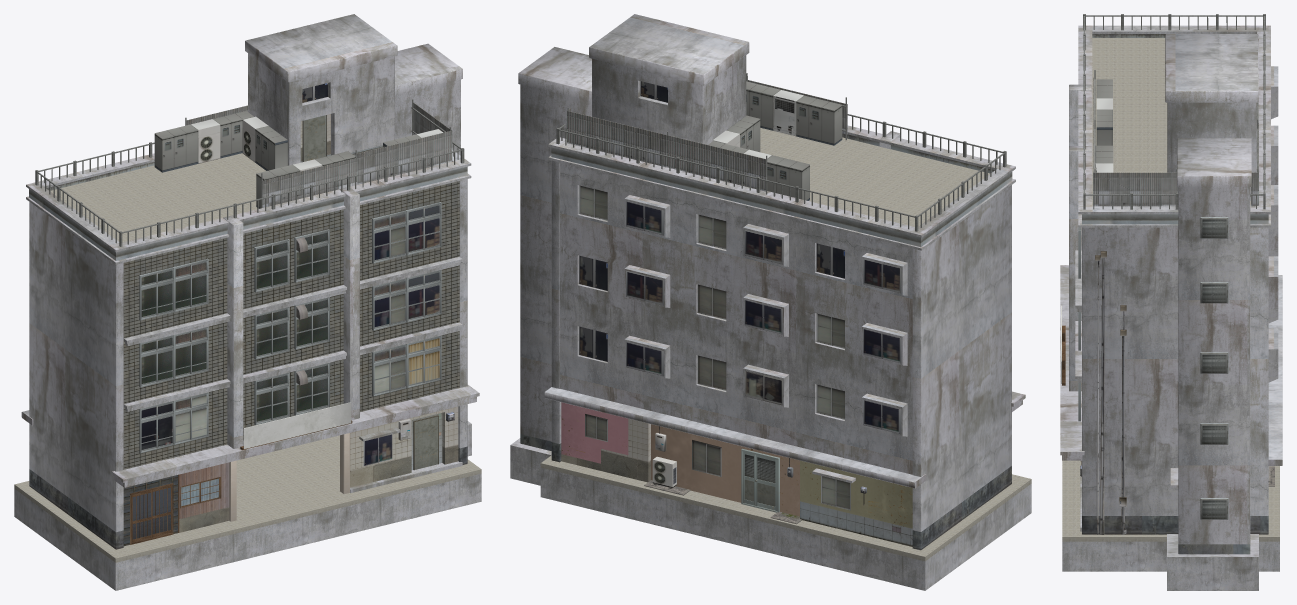
Rendered from building_large_2_in.fbx.
The picture shows the model from 3 angles, left to right: view 1: azimuth 30°, elevation 25°; view 2: azimuth 150°, elevation 25°; view 3: azimuth 270°, elevation 25°; orthographic projection. The views are drawn at different scales.
Visible parts, largest first — view 1: building_large_2_in; view 2: building_large_2_in; view 3: building_large_2_in.
Boxes of the visible parts, <box> form: building_large_2_in: <box>14,14,481,590</box>; building_large_2_in: <box>510,14,1031,590</box>; building_large_2_in: <box>1060,14,1282,590</box>.
Bounding box in the file's own units: 2044 × 905 × 2074.
Materials: 9 (9 with a texture image).
